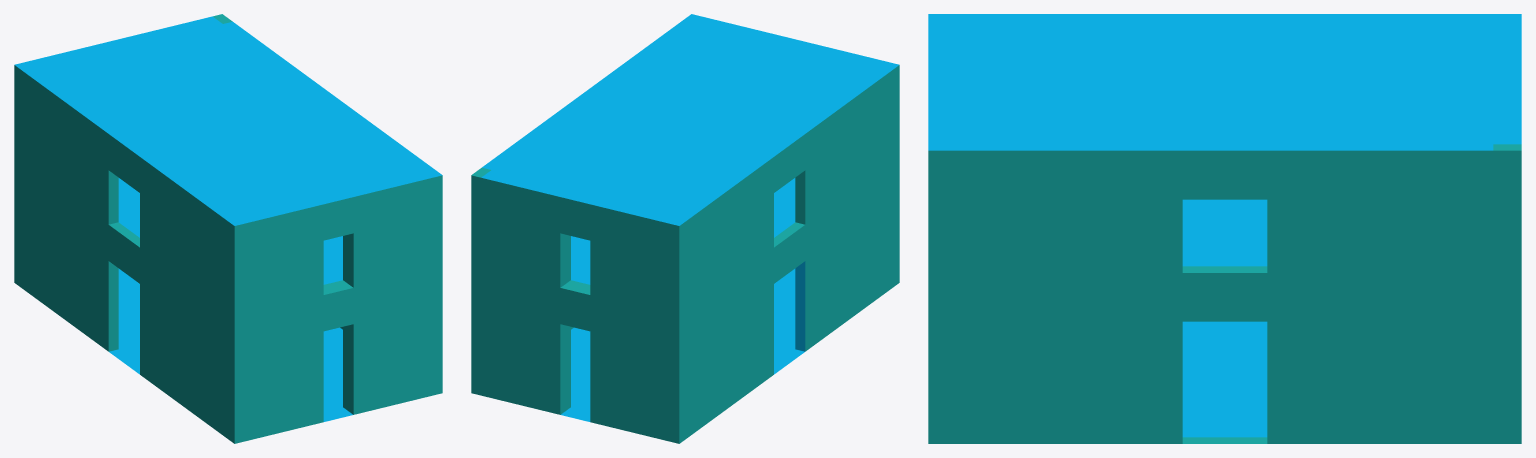
Rendered from SD_LagerHaus.fbx.
The picture shows the model from 3 angles, left to right: view 1: azimuth 30°, elevation 25°; view 2: azimuth 150°, elevation 25°; view 3: azimuth 270°, elevation 25°; orthographic projection. The views are drawn at different scales.
Visible parts, largest first — view 1: LagerHaus; view 2: LagerHaus; view 3: LagerHaus.
Boxes of the visible parts, bbox=[...] form: LagerHaus: bbox=[14, 14, 442, 443]; LagerHaus: bbox=[471, 14, 899, 443]; LagerHaus: bbox=[928, 14, 1521, 443].
Bounding box in the file's own units: 1200 × 1200 × 2200.
